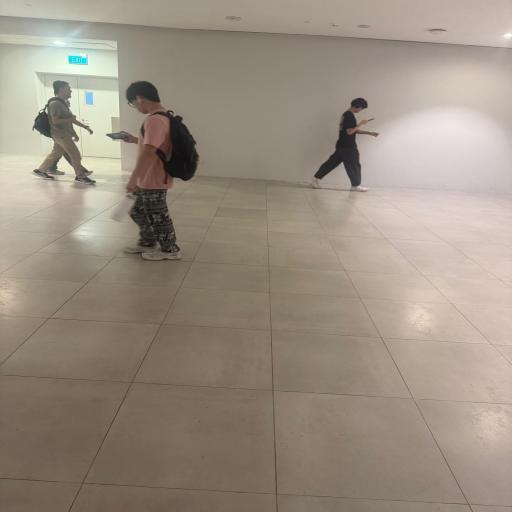person_left: (106, 80, 200, 262)
person_right: (307, 98, 380, 192), (32, 80, 96, 184), (47, 98, 93, 176)
